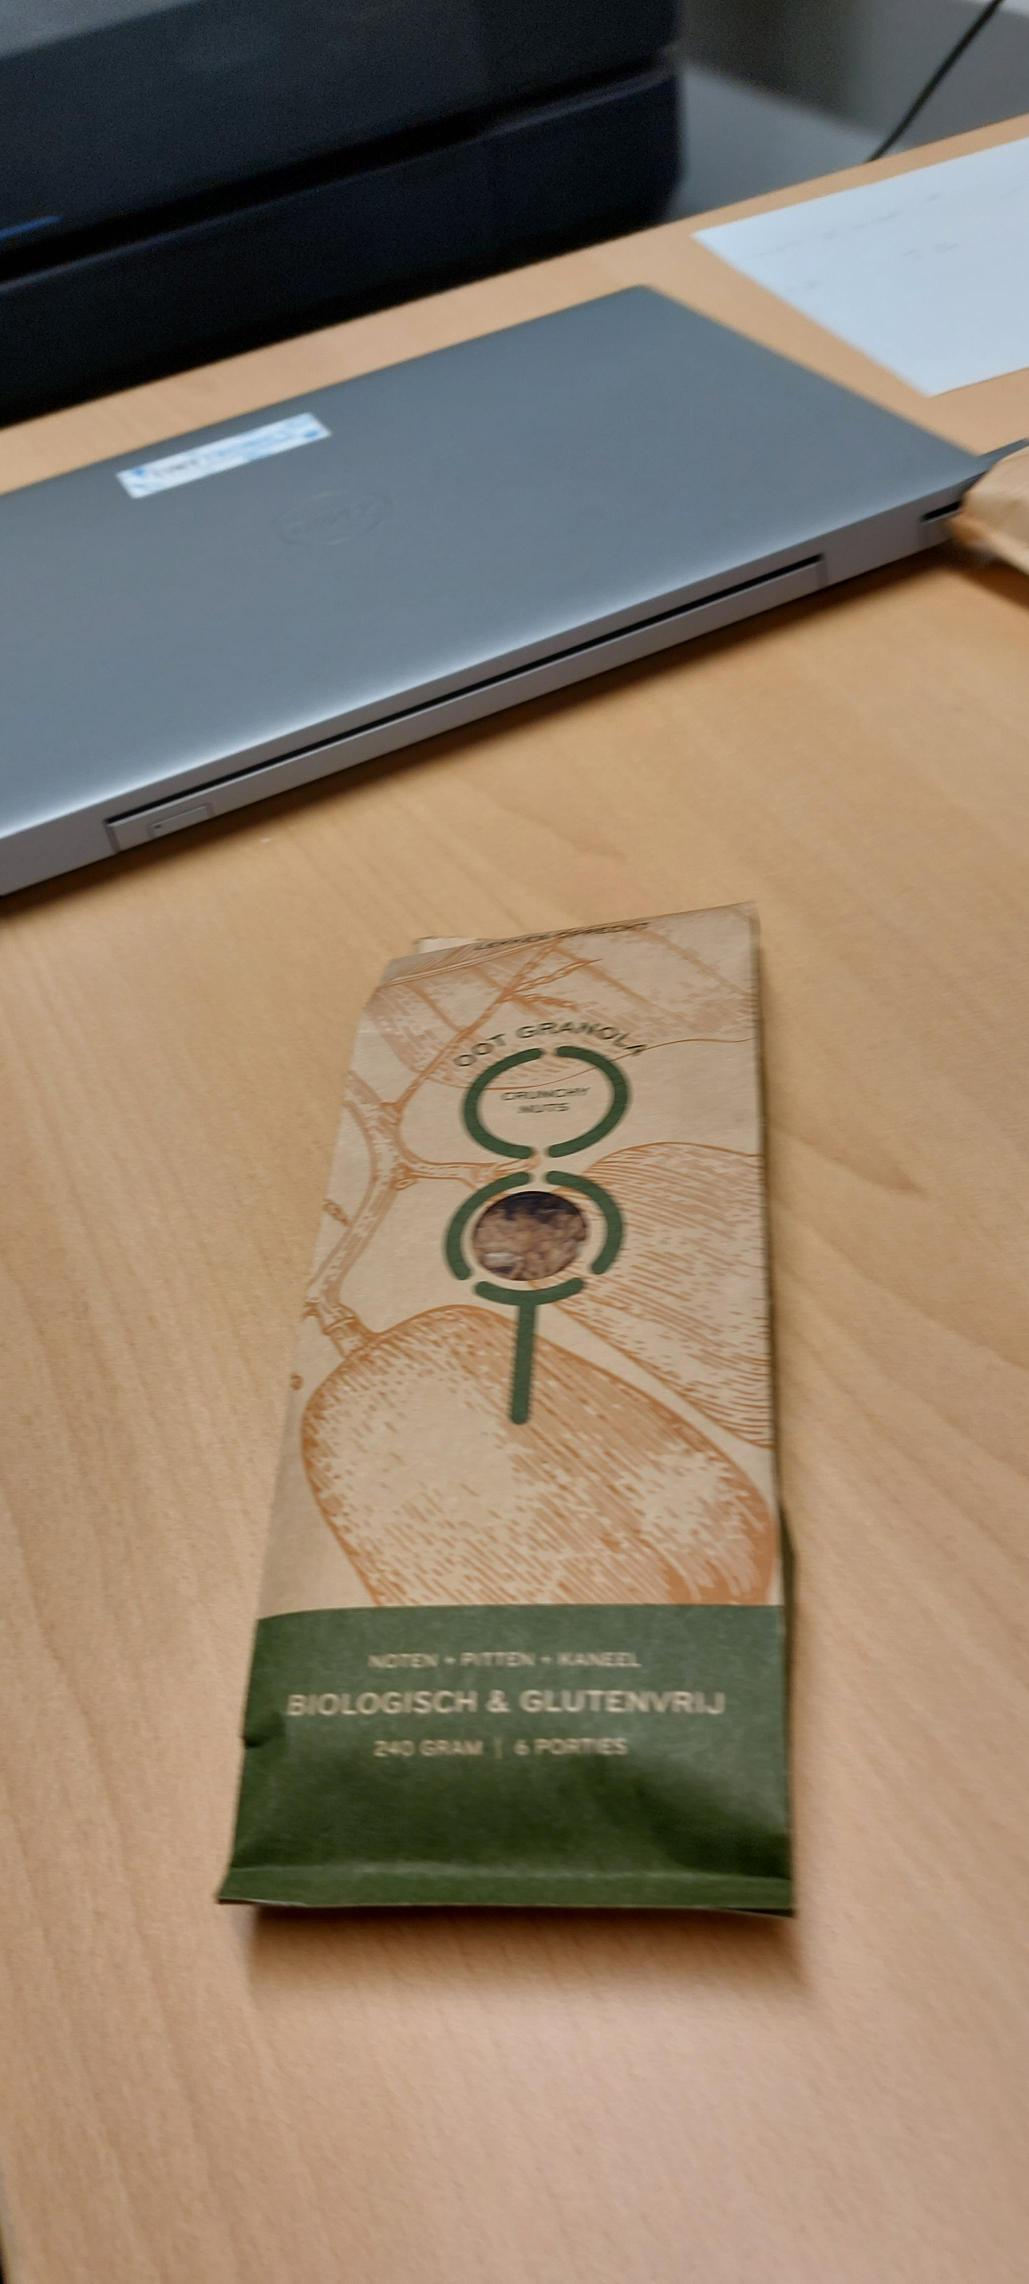CrunchyNuts: (278, 907, 756, 1881)
